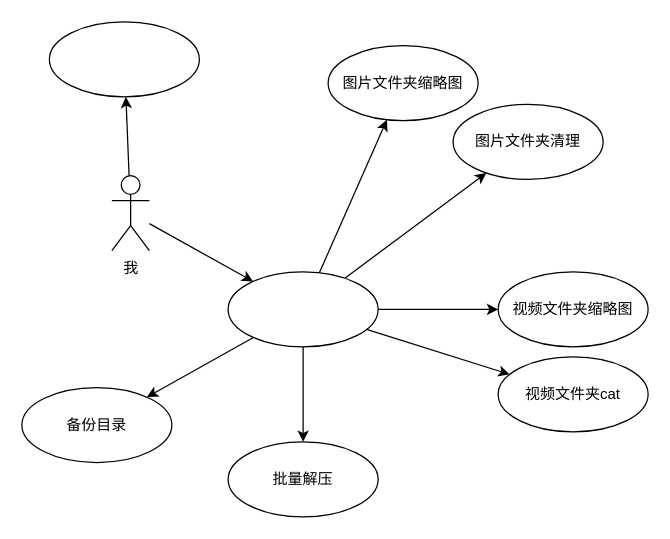
Image size: 670x539. Some labels were removed from this diagram. The shapes that lost their labels are listed below. From the top down, each one's centre as x and y in pixels, then its label:
At point 123,59: "开启flask-server，在网页上输入密码浏览文件".
At point 302,309: "目录操作".
